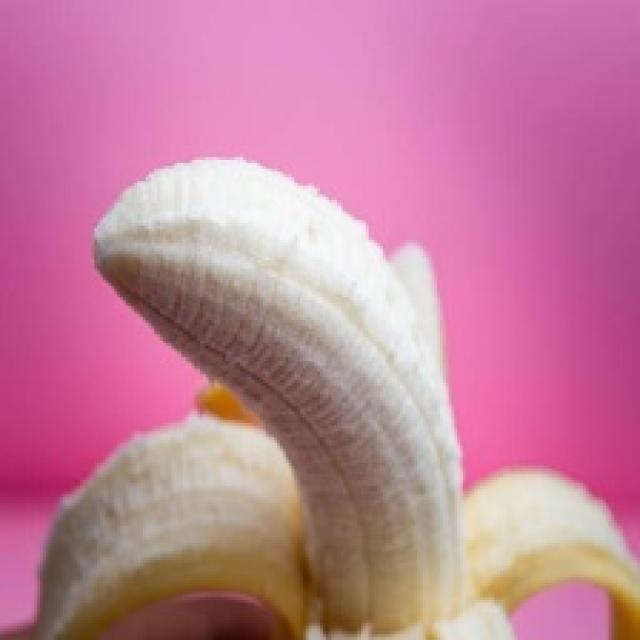Banana: (20, 154, 637, 637)
